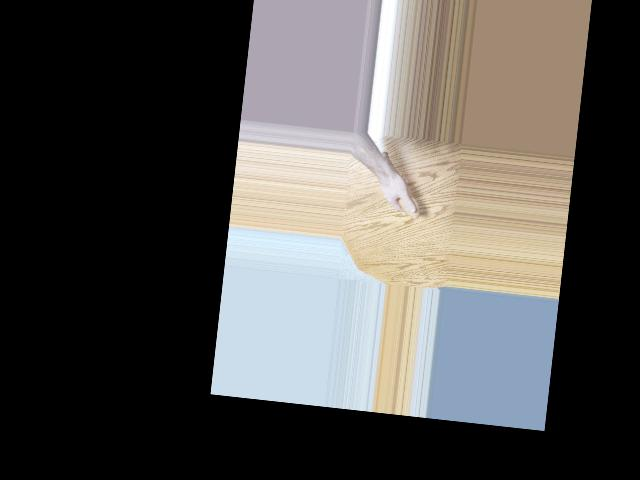sweet_potato: (375, 152, 426, 220)
